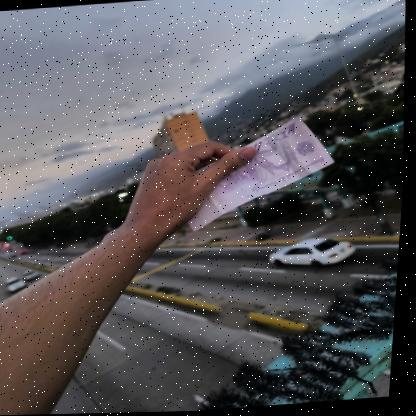one_hundred-back-vef: (184, 115, 343, 234)
